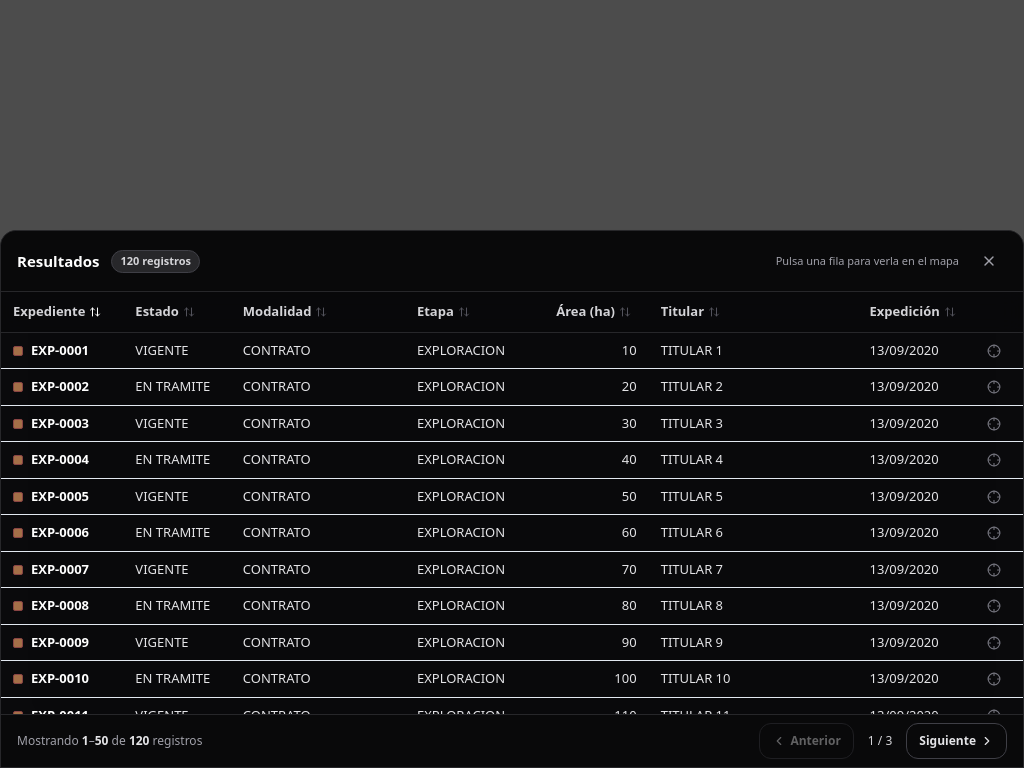
Scenario: AttributeTable › permite navegar a la página siguiente y anterior
This screenshot has width=1024, height=768.
expect the button with aria-label "Página anterior" is disabled: met, box [759,723,854,759]
Click the button with aria-label "Página siguiente" at (957, 741), box [906,723,1007,759]
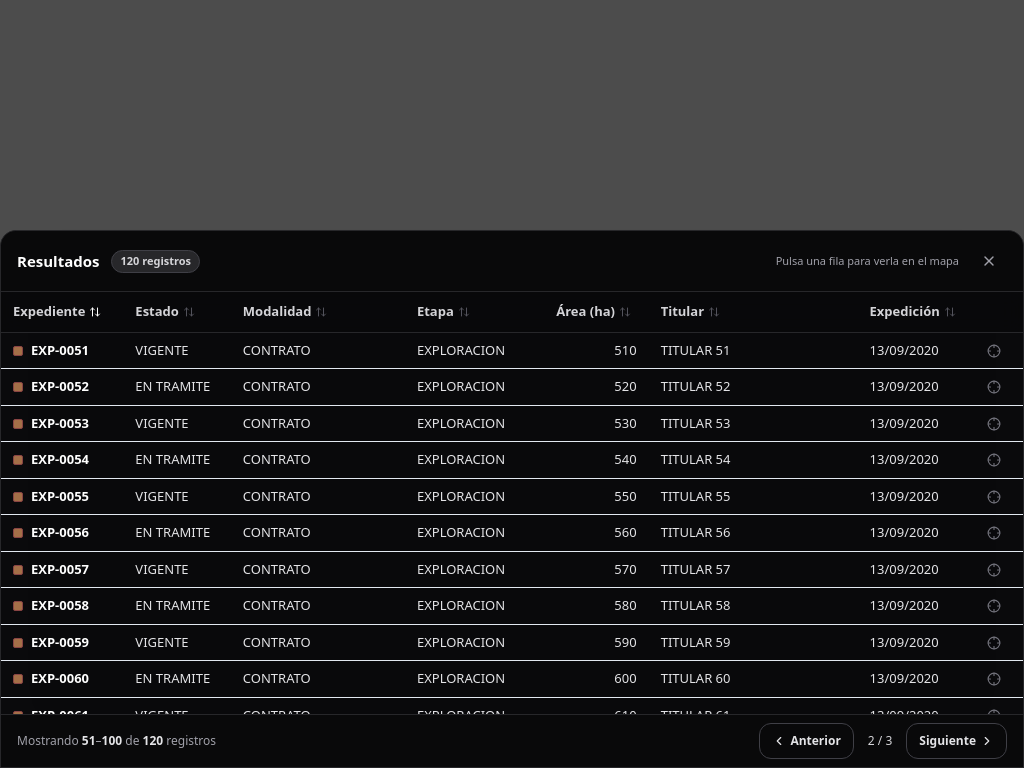
expect the text "2 / 3" is shown: met, box [868,732,892,749]
expect the text "EXP-0051" is shown: met, box [31,341,89,360]
expect the text "EXP-0001" is gone: met
Click the button with aria-label "Página anterior" at (807, 741), box [759,723,854,759]
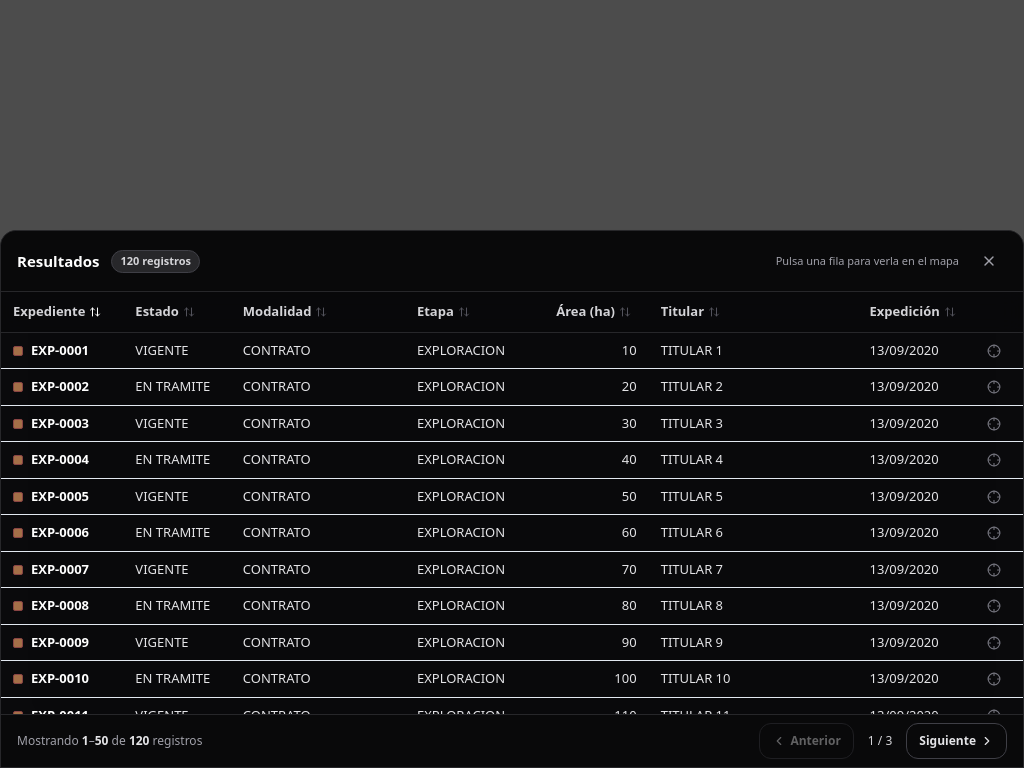
expect the text "1 / 3" is shown: met, box [868,732,892,749]
expect the text "EXP-0001" is shown: met, box [31,341,89,360]
